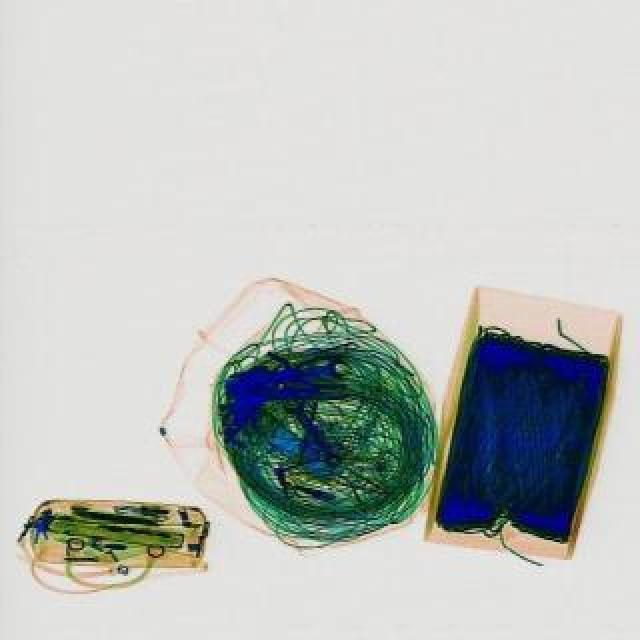scissors: (278, 392, 346, 472), (270, 356, 346, 384)
